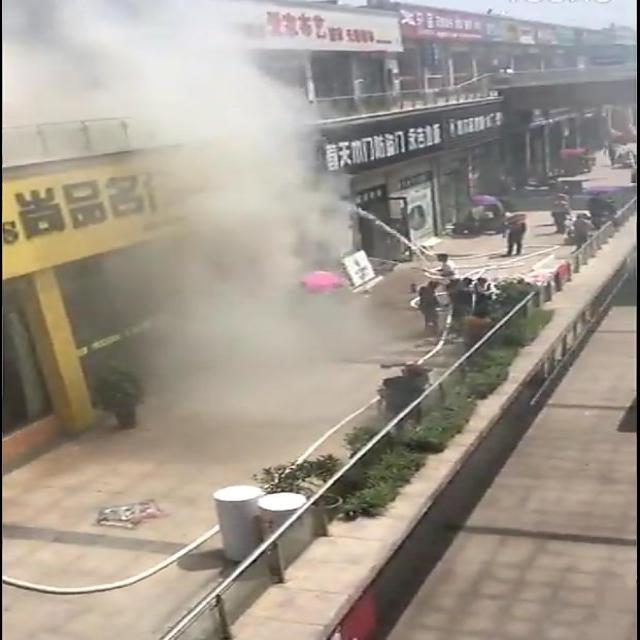smoke: (6, 0, 400, 446)
